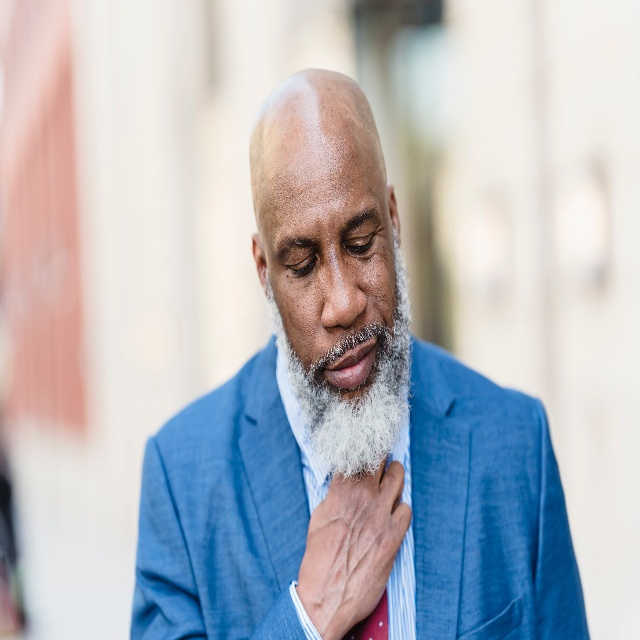Sin_guantes: (289, 467, 415, 631)
